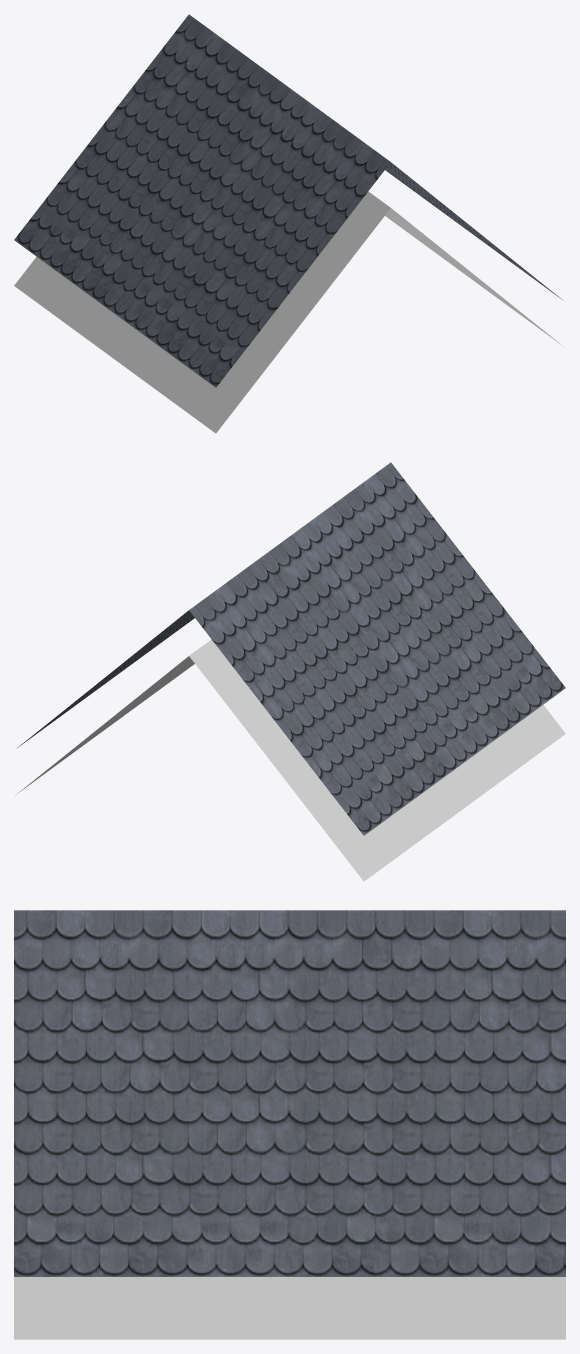
Rendered from roofSaddle.fbx.
3 views of the same model, one above another, from view 1: azimuth 30°, elevation 25°; view 2: azimuth 150°, elevation 25°; view 3: azimuth 270°, elevation 25° (orthographic). The views are drawn at different scales.
Parts seen in each view (by area): view 1: roofSaddle; view 2: roofSaddle; view 3: roofSaddle.
Boxes of the visible parts, x1=… form: roofSaddle: x1=14, y1=14, x2=564, y2=433; roofSaddle: x1=15, y1=462, x2=565, y2=881; roofSaddle: x1=14, y1=910, x2=565, y2=1339.
Bounding box in the file's own units: 12 × 7.5 × 12.
Materials: 1 (1 with a texture image).
